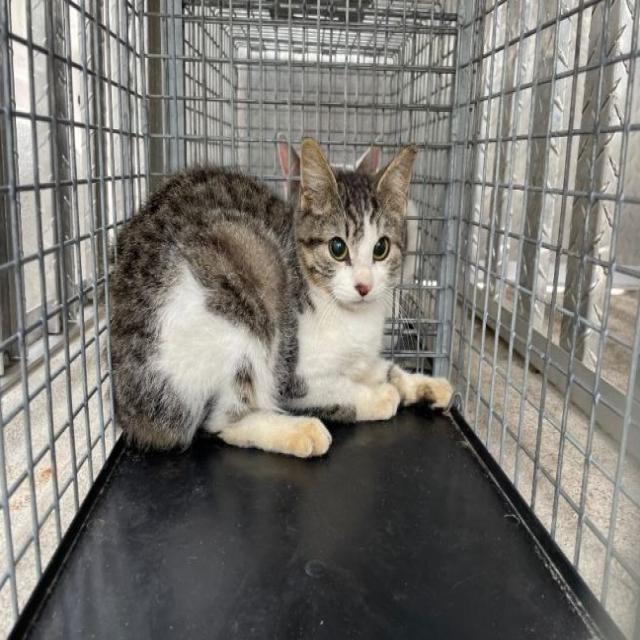American Bobtail: (105, 128, 457, 463)
